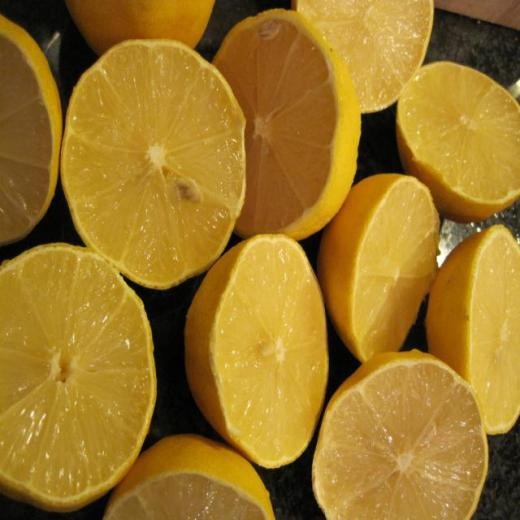Grape: (58, 40, 252, 288), (0, 242, 160, 520), (209, 7, 359, 236), (189, 233, 326, 474), (307, 350, 484, 520), (319, 172, 443, 358), (426, 214, 520, 436), (398, 59, 520, 222), (292, 0, 434, 114), (106, 428, 273, 520), (0, 14, 67, 240), (66, 0, 217, 58)
